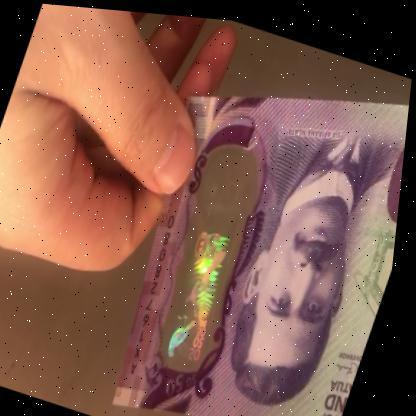50F: (150, 143, 272, 372)
